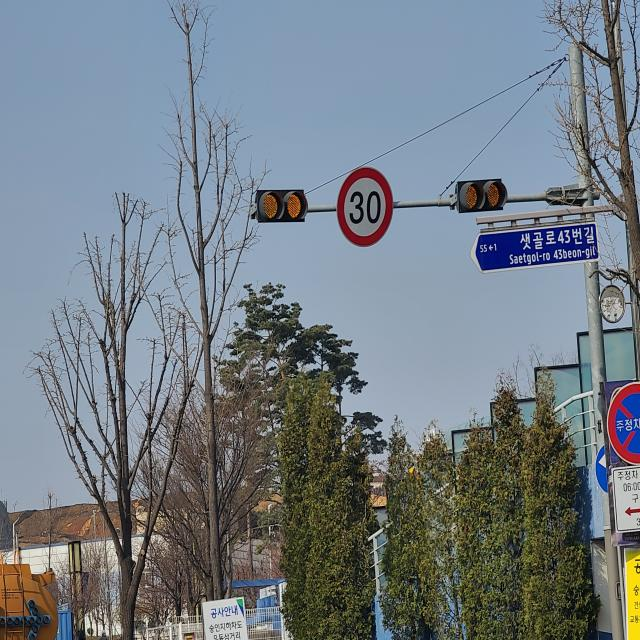Yellow Light: (260, 190, 280, 219), (284, 191, 304, 219), (461, 183, 480, 211), (485, 181, 502, 209)
